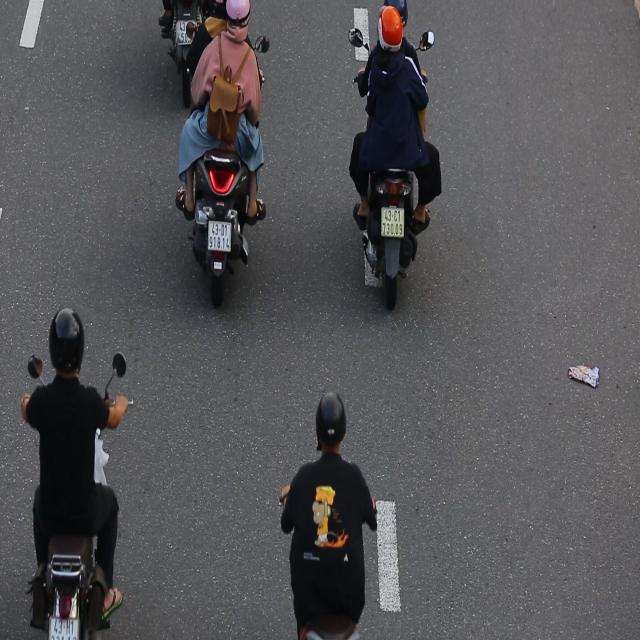motorbike: (347, 1, 452, 319)
